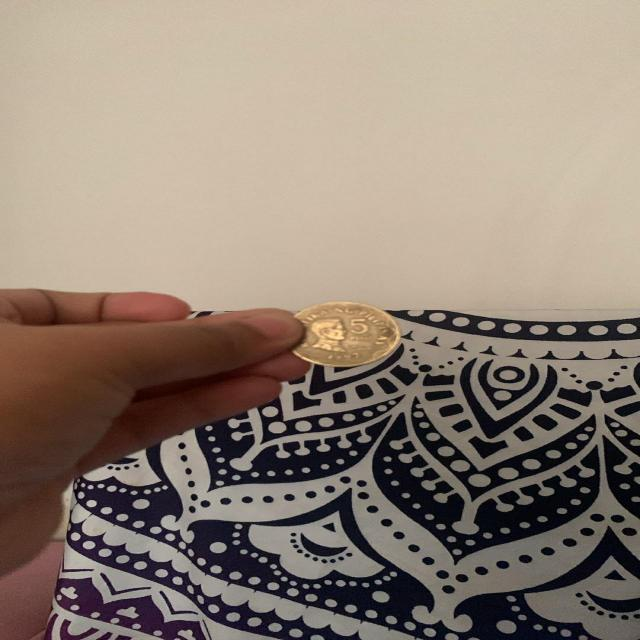5 peso-old: (284, 293, 411, 371)
